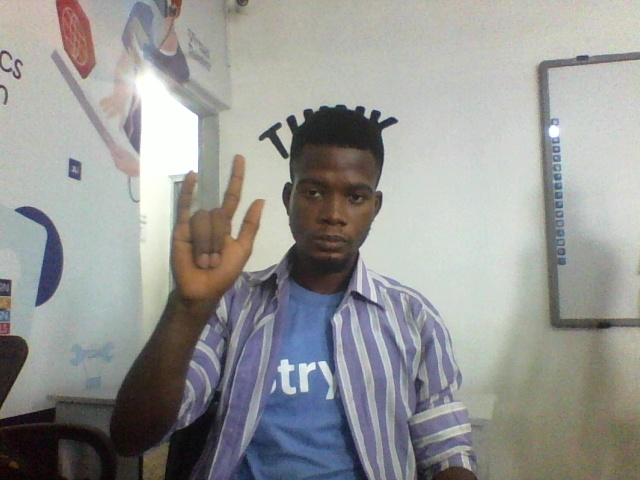i_love_you: (168, 151, 268, 318)
